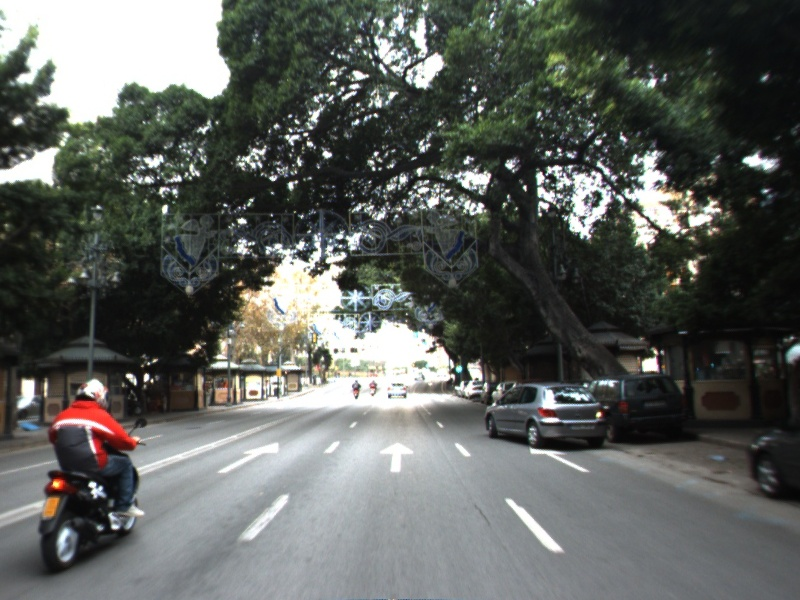STRAIGHT: (215, 441, 281, 475), (527, 444, 593, 474), (378, 441, 416, 474)
